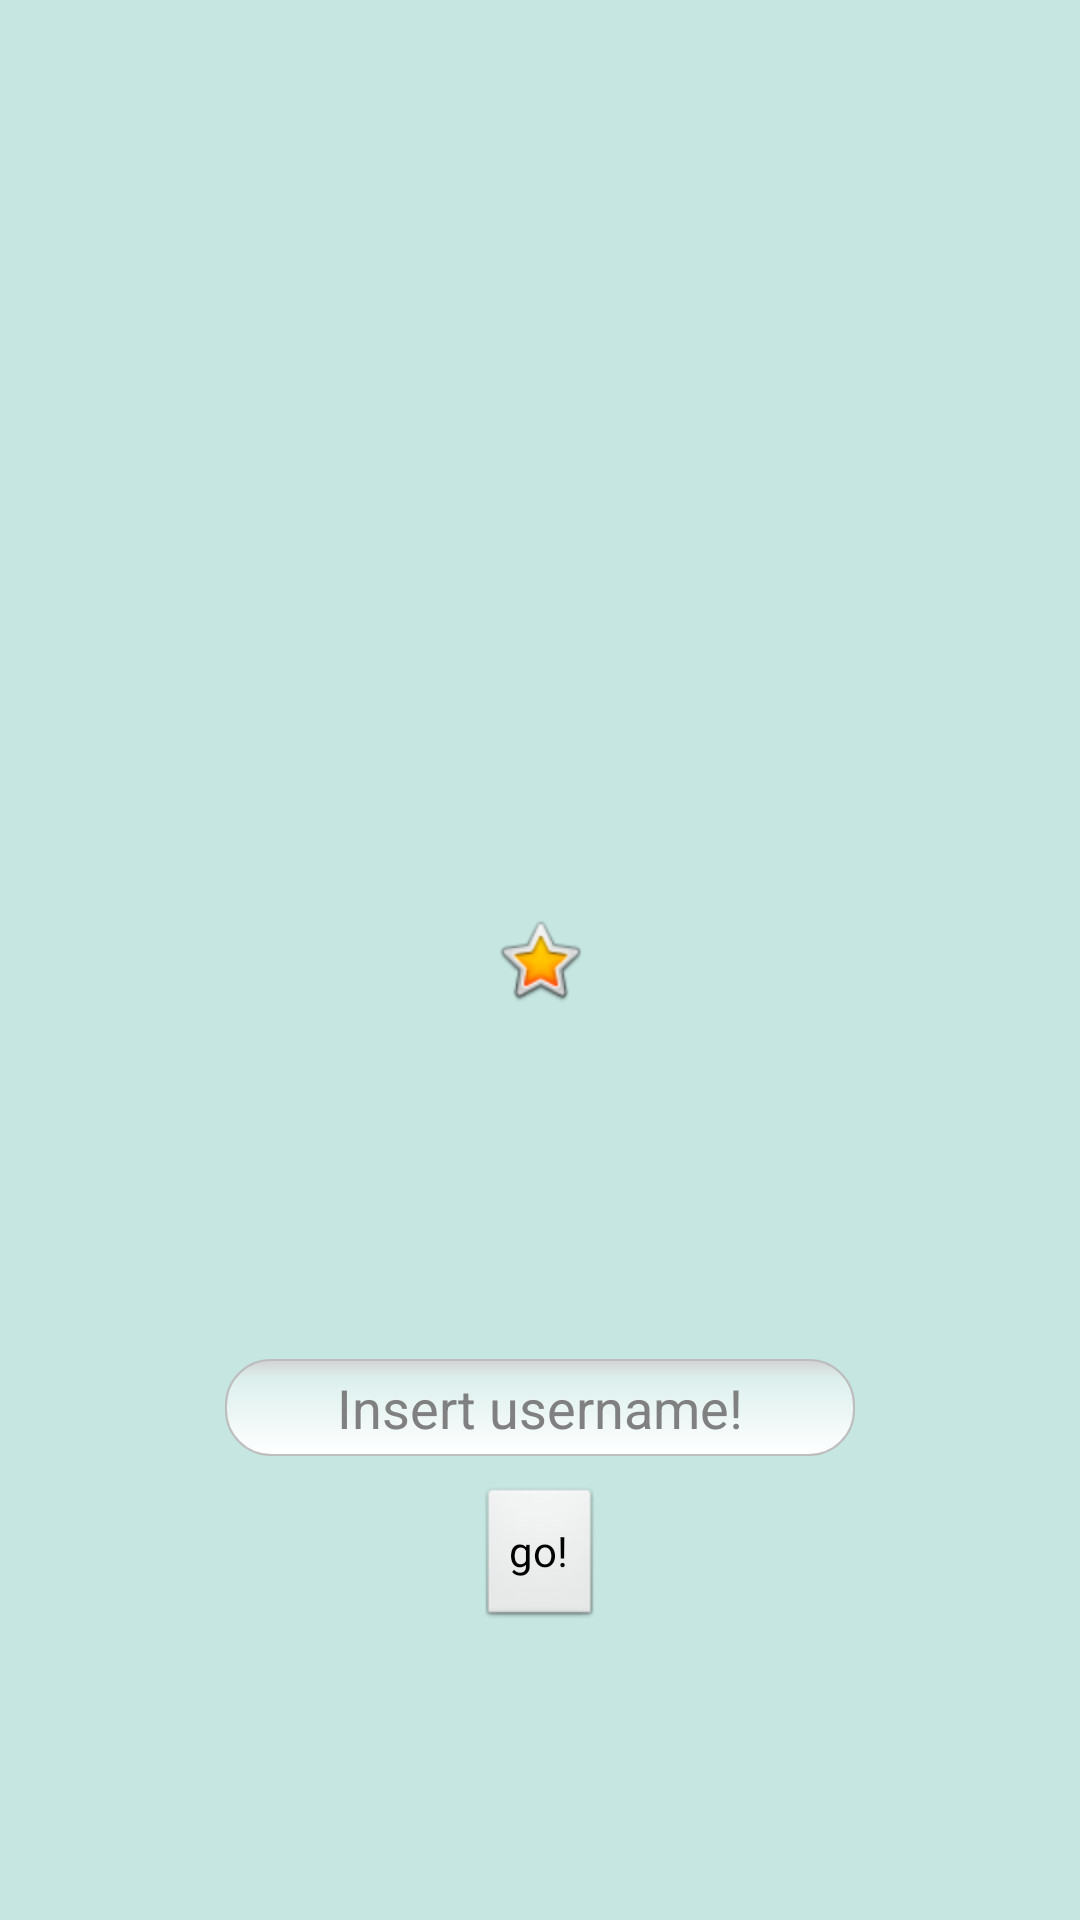

Named icons in this screenshot (1080px x 1920px) and their centers, (x,y):
star on: (541,961)
